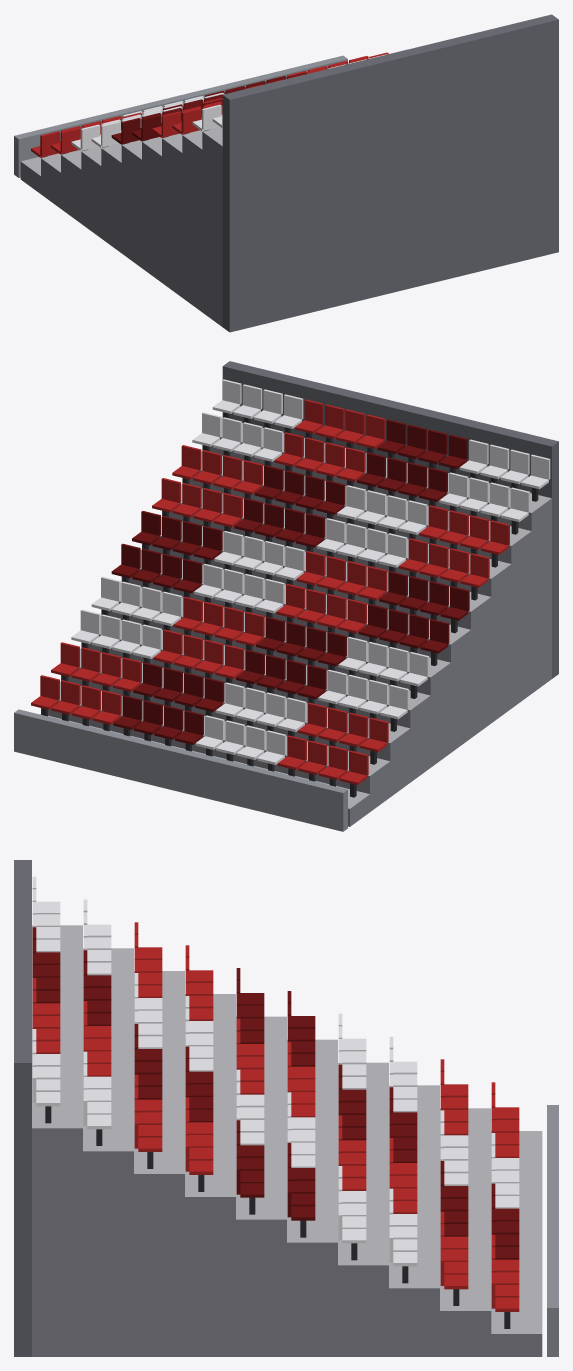
File: GradaRoja.obj
3 renders of one model, top to bottom at view 1: azimuth 30°, elevation 25°; view 2: azimuth 150°, elevation 25°; view 3: azimuth 270°, elevation 25°, orthographic. The views are drawn at different scales.
Parts seen in each view (by area): view 1: GradaRoja; view 2: GradaRoja; view 3: GradaRoja.
Part boxes in pixels (x1,y1,x2,y2): GradaRoja: (14, 14, 558, 332); GradaRoja: (14, 361, 558, 831); GradaRoja: (14, 860, 558, 1356).
Size of the model in its own units: 8 by 5.4 by 9.08.
1 material, 1 textured.
